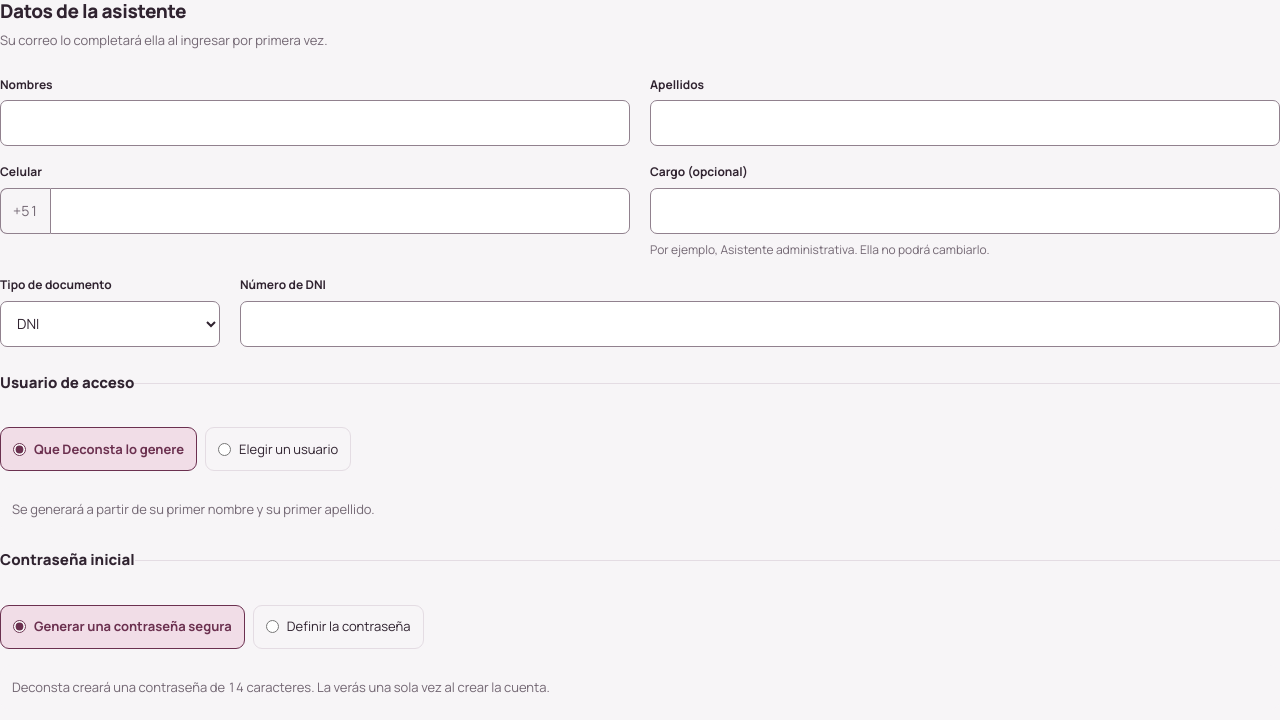
Scenario: FormularioAsistente › si la persona fue eliminada antes, ofrece recuperarla o crear otra
Type "Daniela" into the field labelled "Nombres" at (315, 123), box [0,100,630,146]
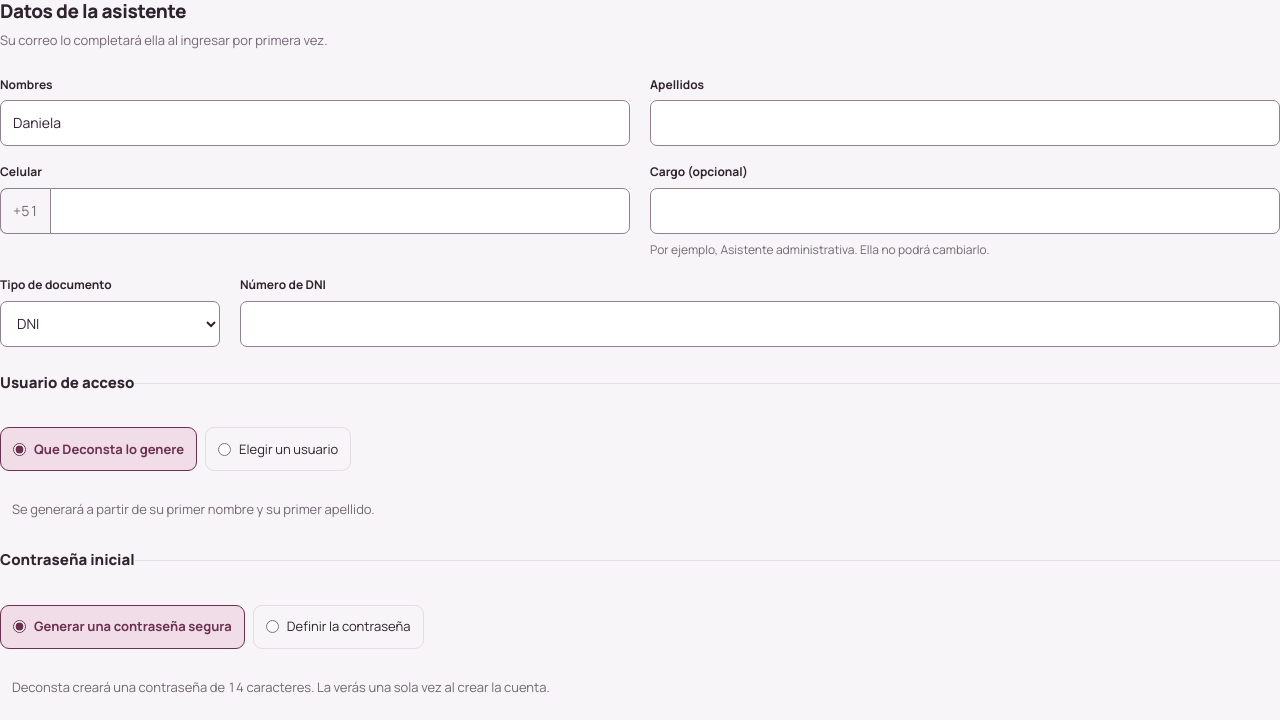
Type "Torres Ríos" into the field labelled "Apellidos" at (965, 123), box [650,100,1279,146]
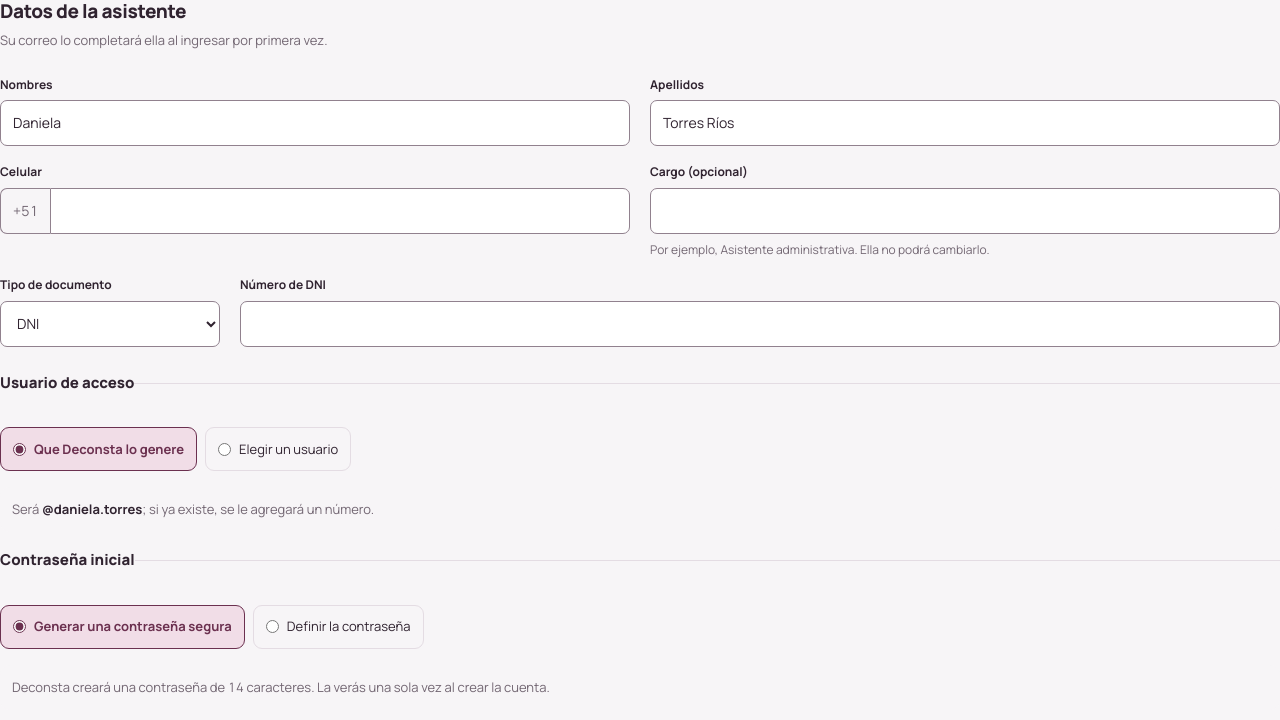
Type "987654321" into the field labelled "Celular" at (340, 211), box [50,188,630,234]
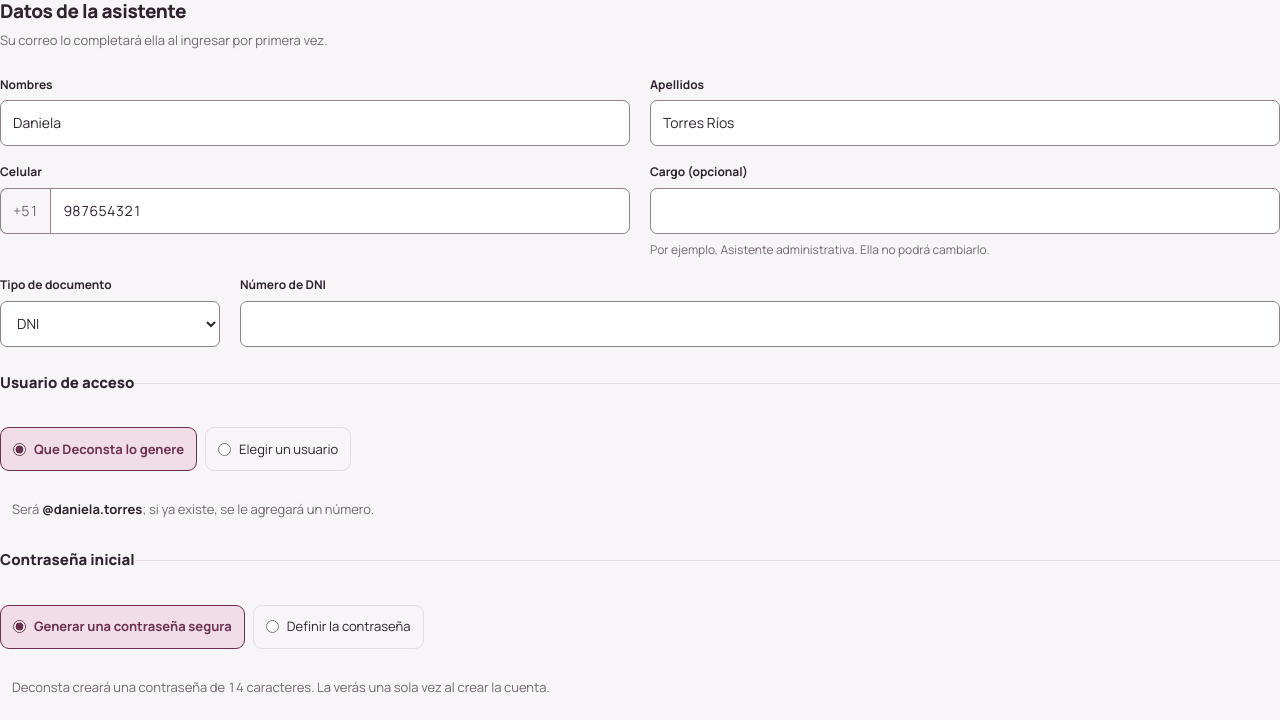
Type "44556677" into the field labelled "Número de DNI" at (760, 324), box [240,301,1279,347]
(page scrolled)
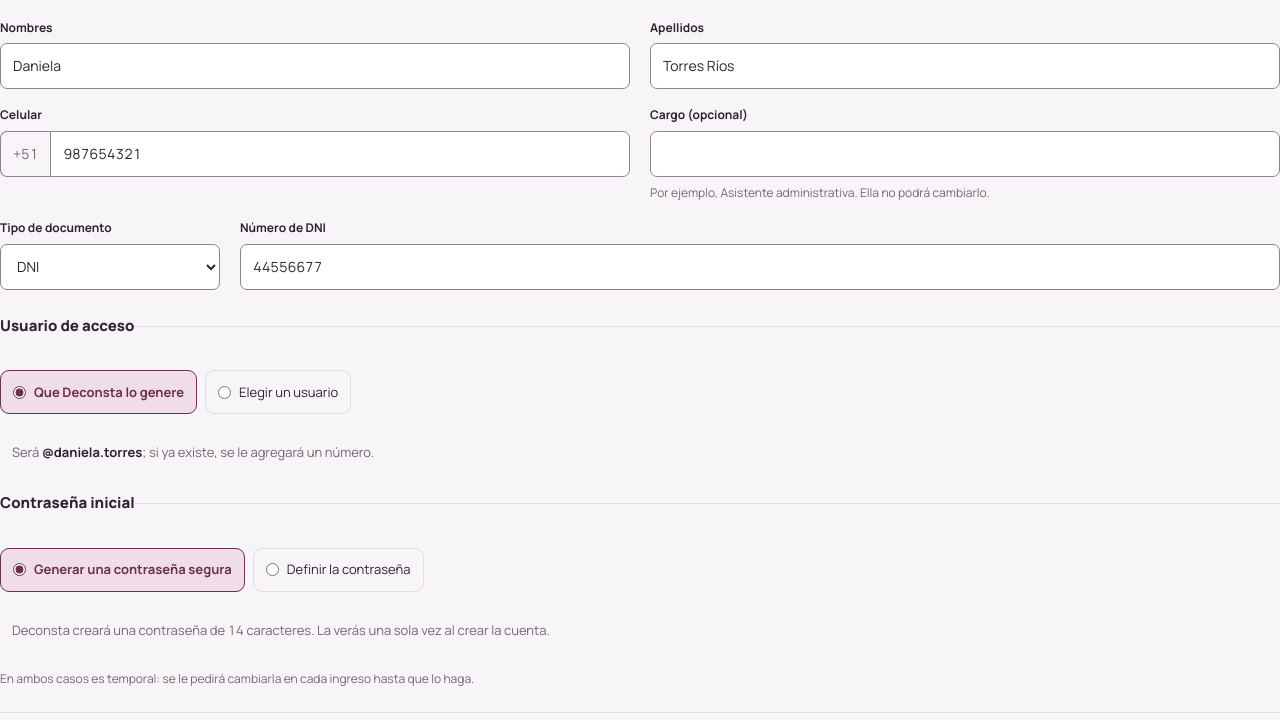
Submit the form
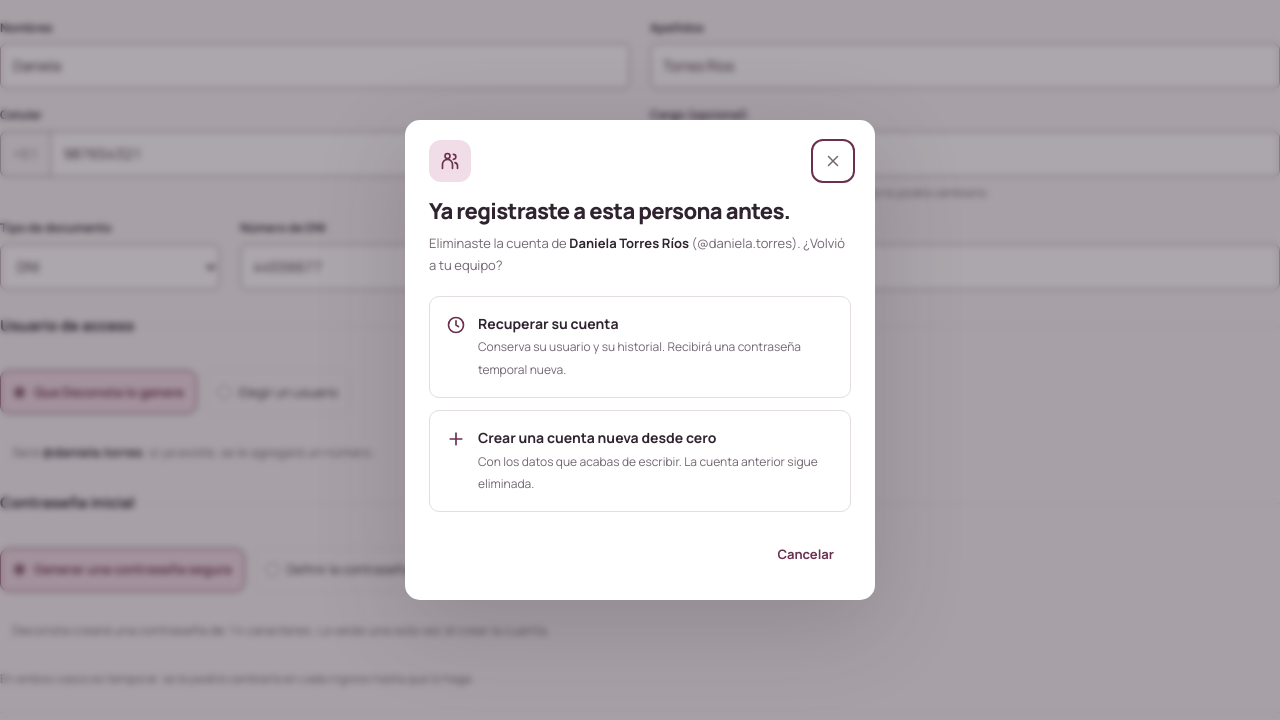
expect the dialog shows "Ya registraste a esta persona antes.": met, box [429,196,790,226]
expect the dialog shows "@daniela.torres": met, box [429,234,845,274]
expect the dialog shows "Recuperar su cuenta": met, box [429,296,851,398]
